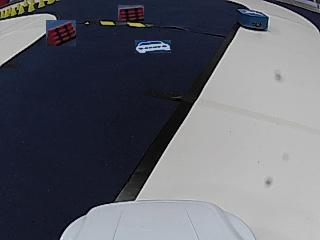prop: (238, 9, 267, 30)
